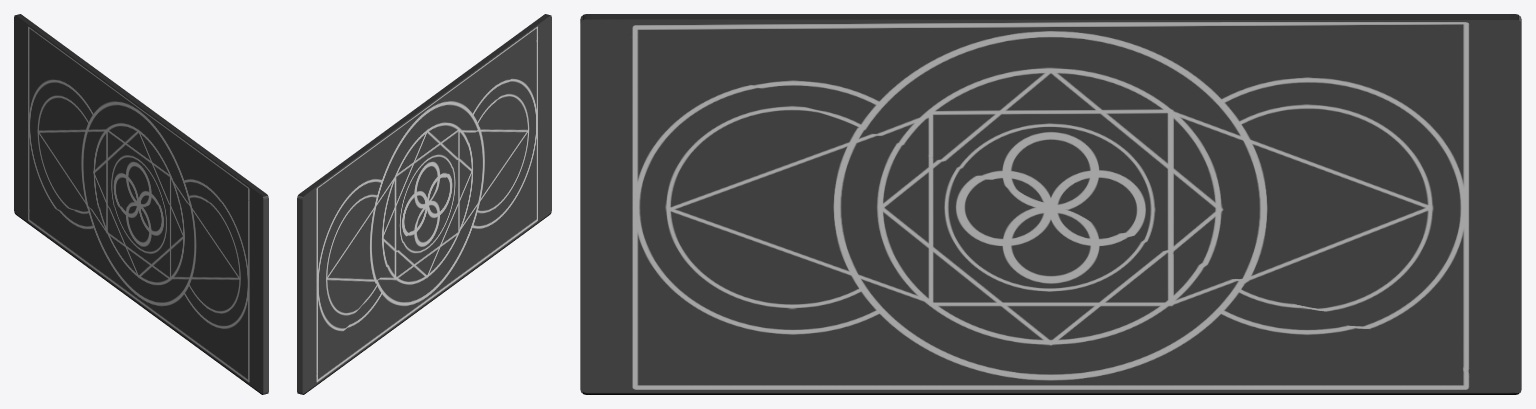
The model's file is MagicBarrierv2.fbx.
3 views of the same model, side by side, from view 1: azimuth 30°, elevation 25°; view 2: azimuth 150°, elevation 25°; view 3: azimuth 270°, elevation 25° (orthographic). The views are drawn at different scales.
Parts seen in each view (by area): view 1: Shield; view 2: Shield; view 3: Shield.
Boxes of the visible parts, left/top/right/bottom form: Shield: left=14, top=14, right=268, bottom=394; Shield: left=297, top=14, right=551, bottom=394; Shield: left=580, top=14, right=1521, bottom=394.
Bounding box in the file's own units: 5.72 × 200 × 454.
1 material, 1 textured.
